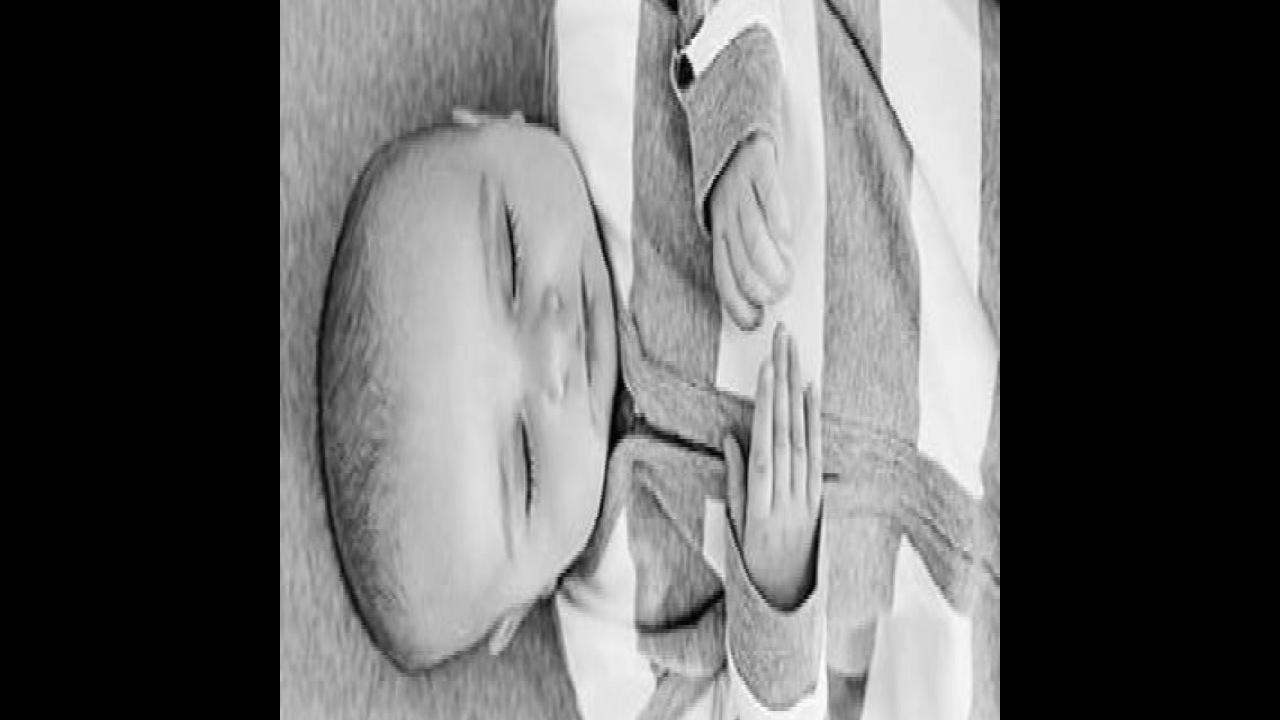hand: (724, 341, 822, 587), (708, 126, 798, 332)
